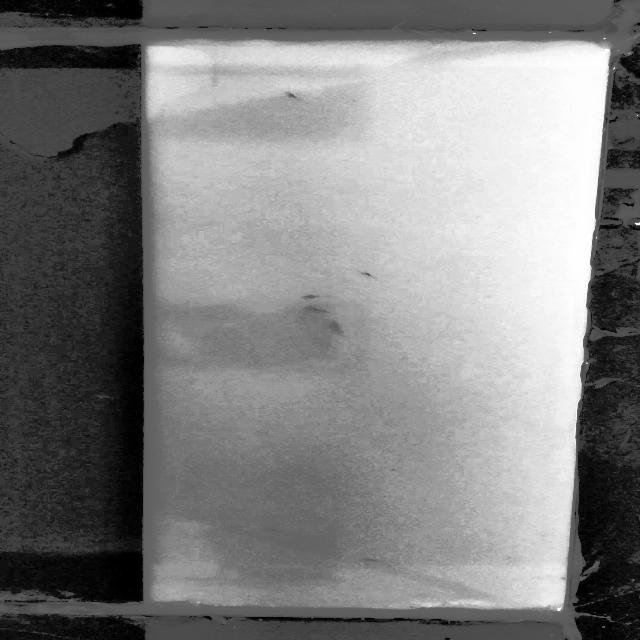shrimp: (347, 269, 385, 284), (298, 305, 344, 317), (290, 292, 336, 303), (325, 319, 348, 338), (259, 526, 294, 536), (285, 90, 308, 103), (363, 557, 380, 564)
